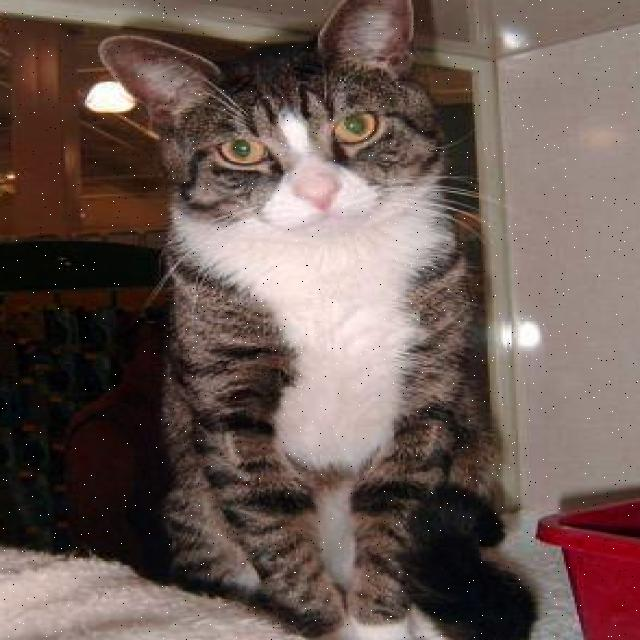Cat: (107, 0, 462, 269)
